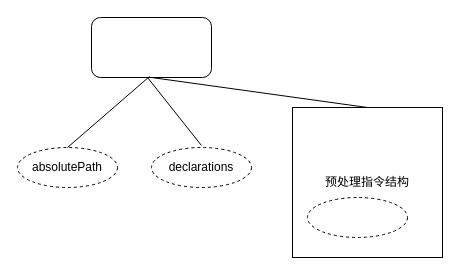
Image size: 460x275. Some labels were removed from this diagram. Here are the shapes that lost their labels. From the top down, the box of each, then its label:
(90, 16, 212, 78): HeaderFile
(306, 196, 408, 238): macrosExpander
